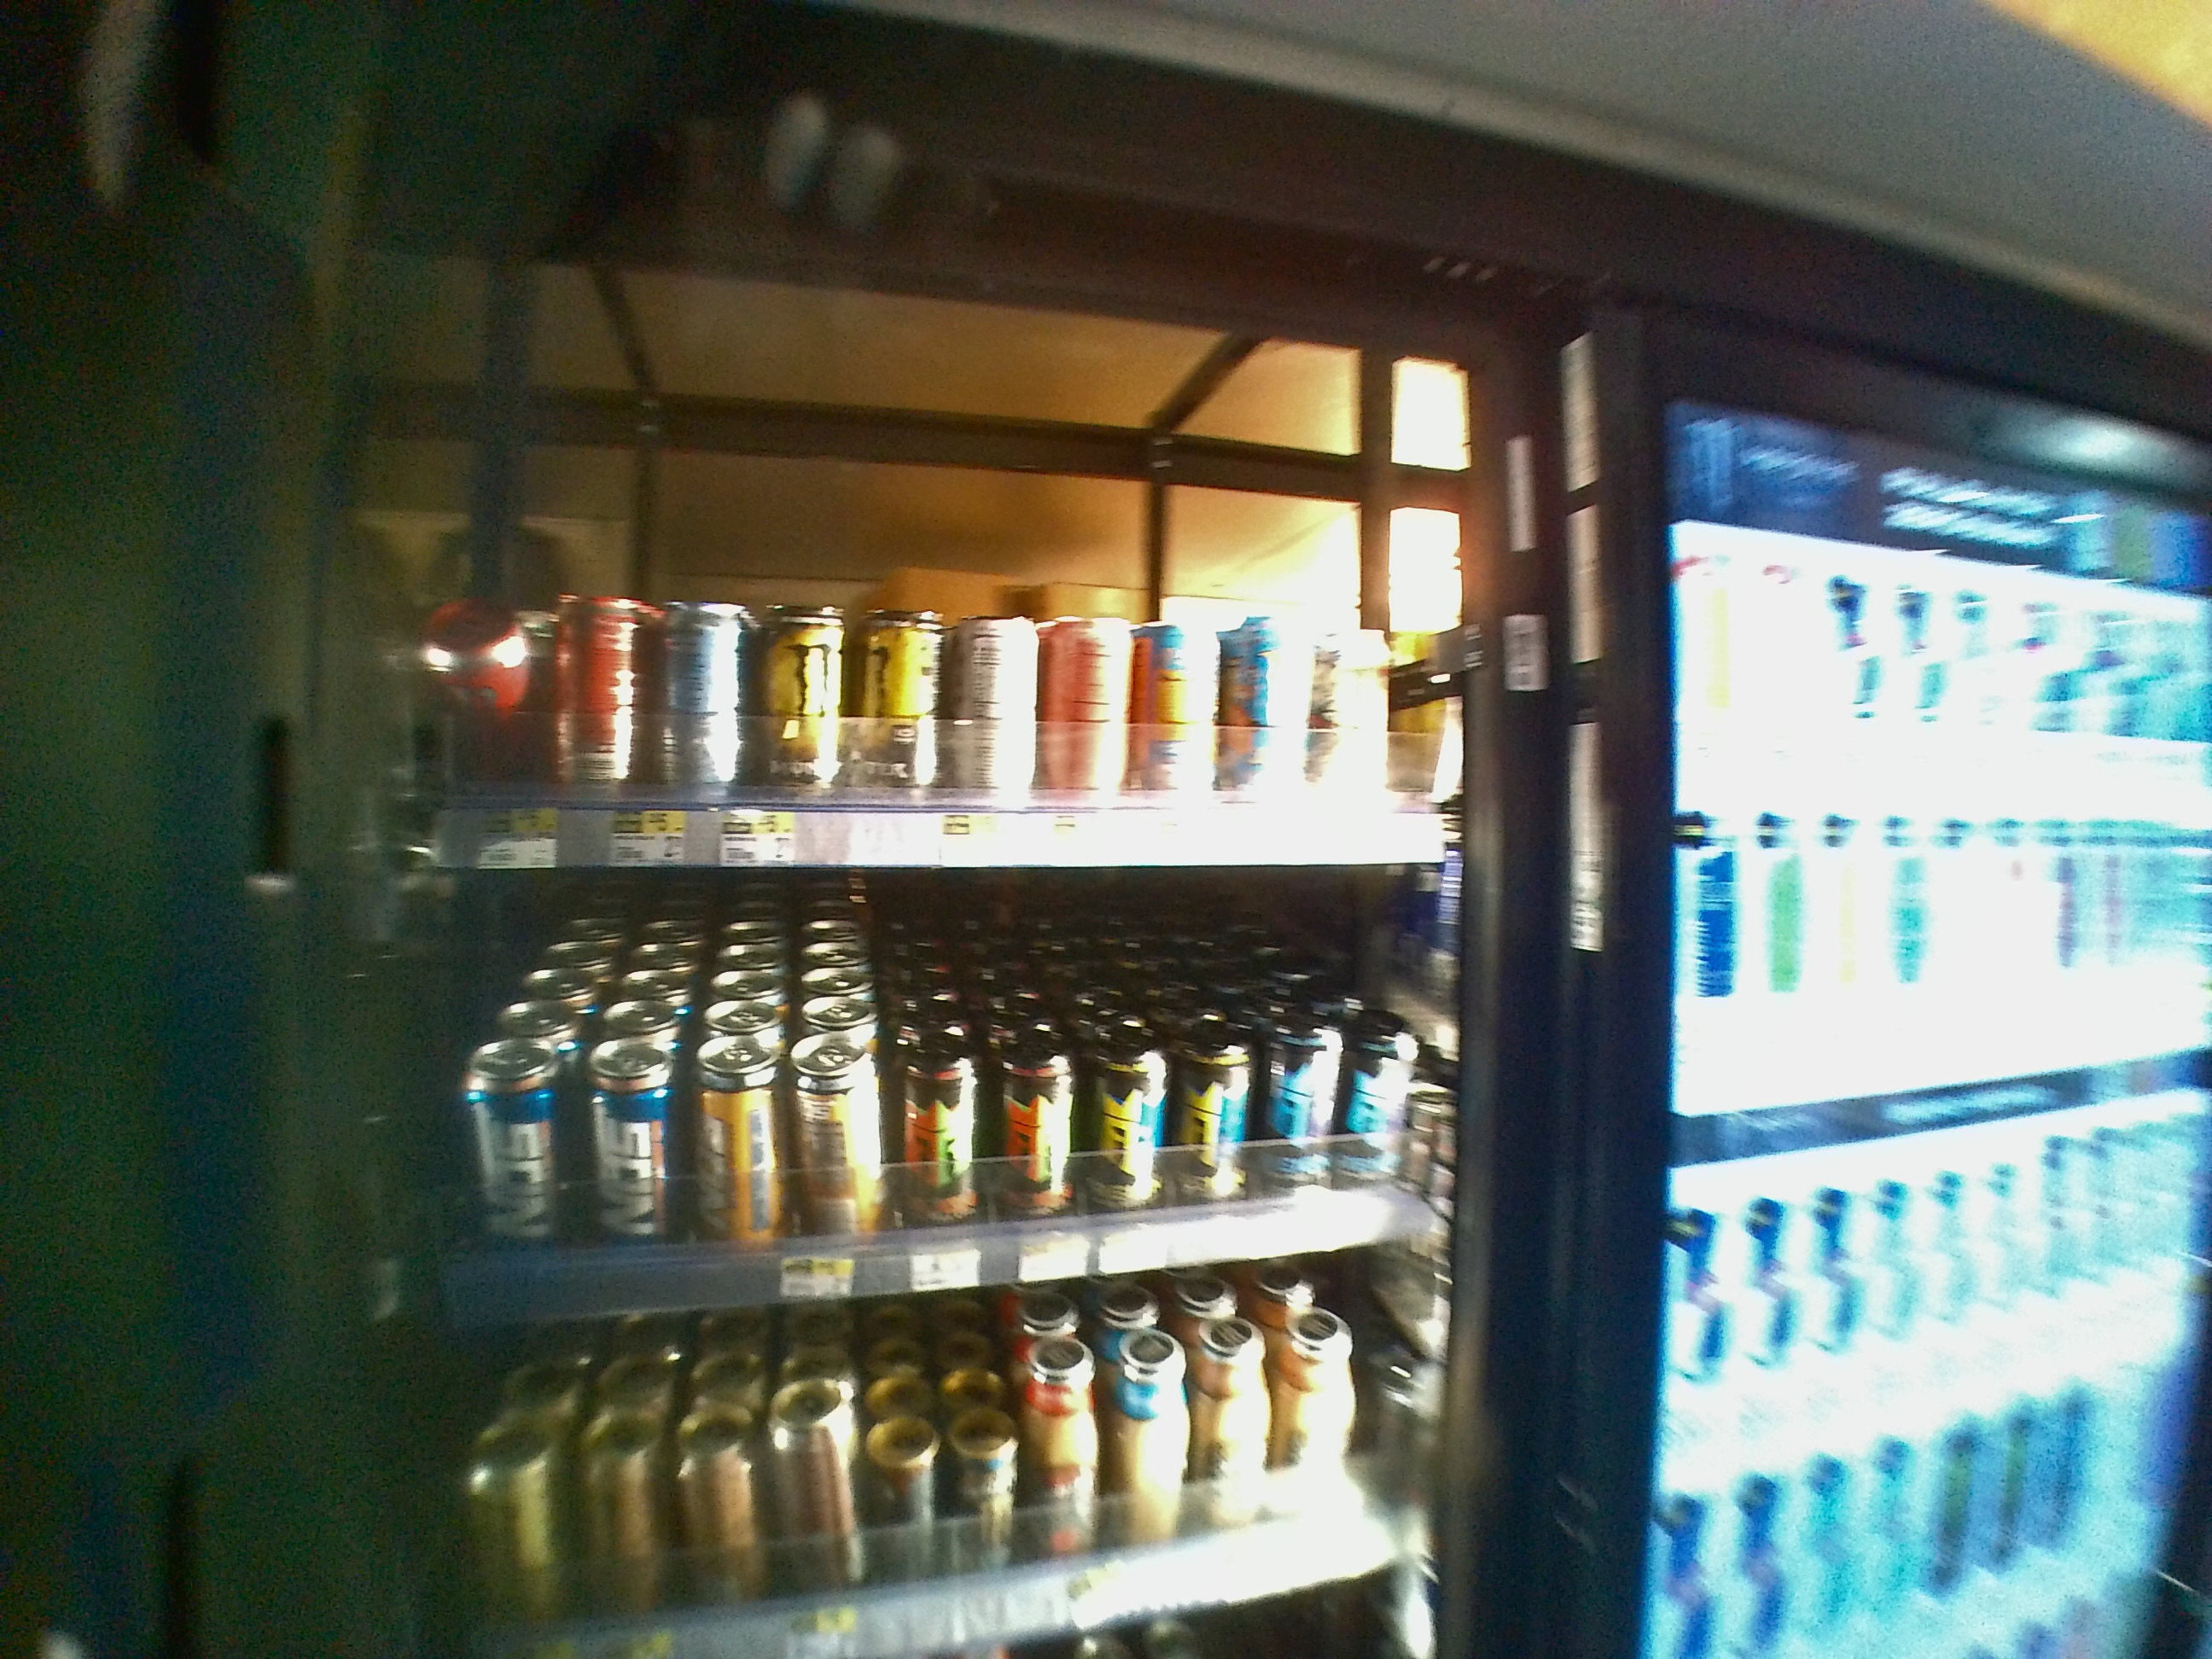shelf: (368, 270, 1475, 871), (364, 871, 1487, 1260)
